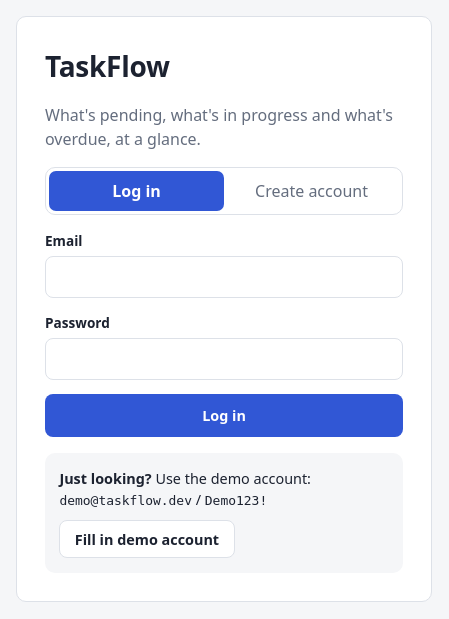
Test: AuthPage › fills in the demo account shown on the screen
Click the button "Fill in demo account" at (147,539), box left=59, top=520, right=234, bottom=558
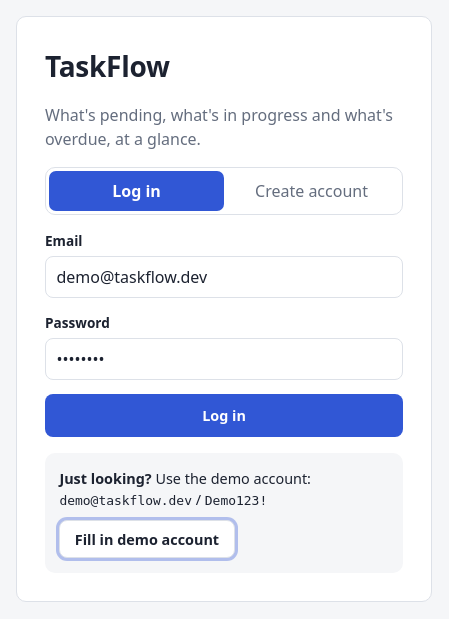
Expected: the text "demo@taskflow.dev" is shown, left=59, top=493, right=192, bottom=508
Expected: the field labelled "Email" holds "demo@taskflow.dev", left=45, top=256, right=403, bottom=298
Expected: the password field labelled "Password" holds "Demo123!", left=45, top=338, right=403, bottom=380
